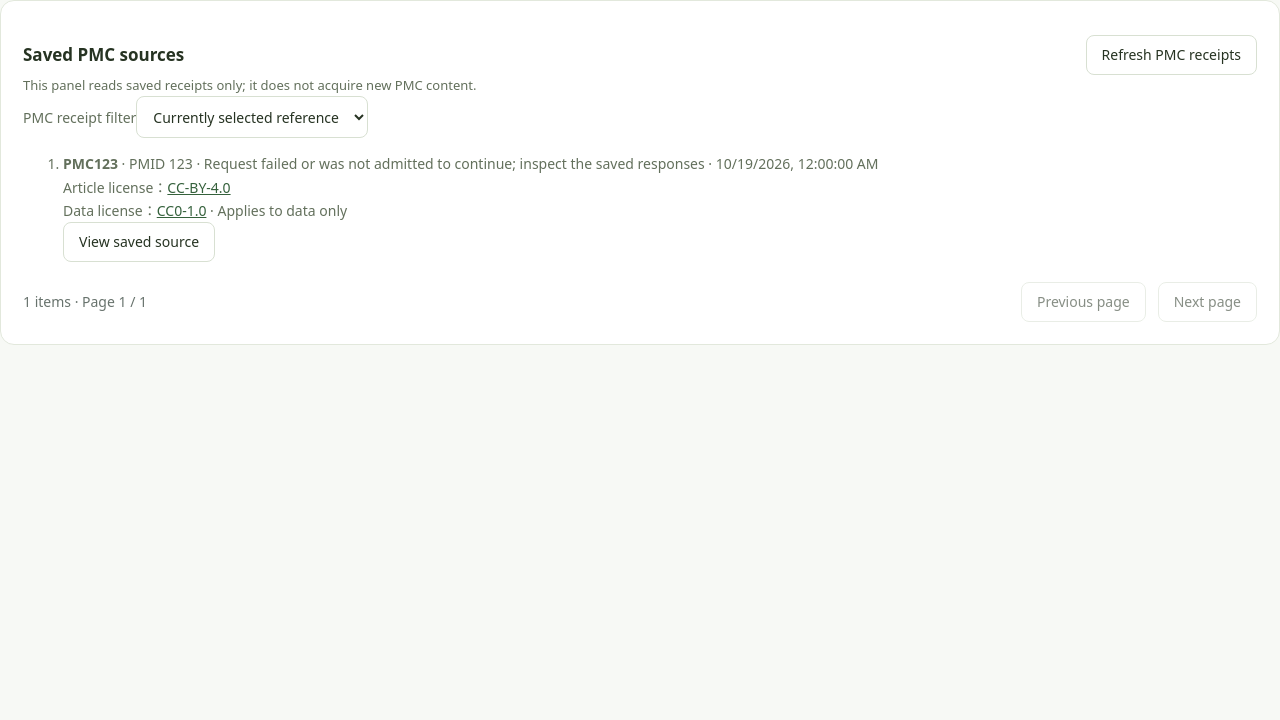
Test: shows failed or unrequested PMC transport honestly and keeps old receipts readable in en
This screenshot has width=1280, height=720.
Click the button "View saved source" at (139, 242), box [63,222,215,262]
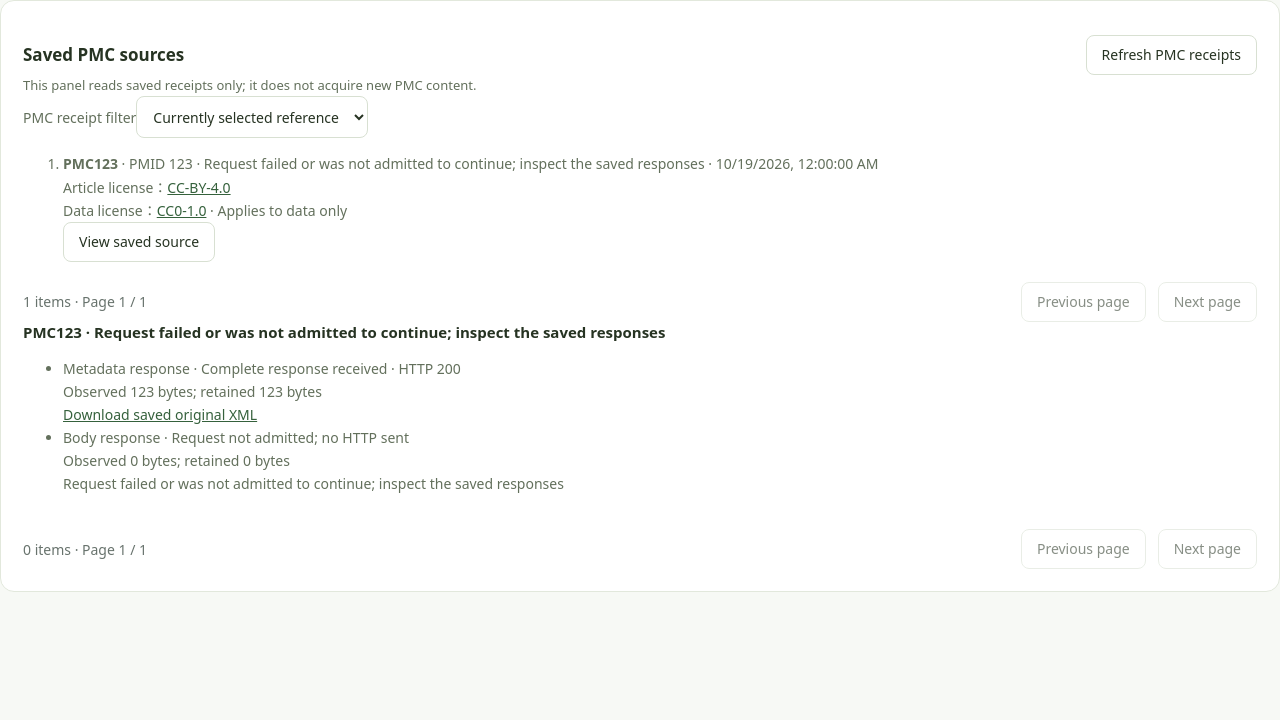
Expected: the link "CC0-1.0" is shown, [157,201,206,220]
Result: the text "Body response · Request not admitted; no HTTP sent" is shown at [63,428,409,447]
Result: the number of links "Download saved original XML" is 1 at [63,405,257,424]
